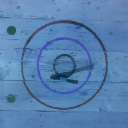Axe Tip: (56, 74, 67, 77)
